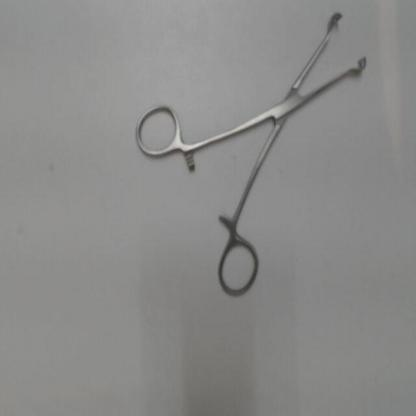Babcock Tissue Forceps: (132, 10, 367, 302)
